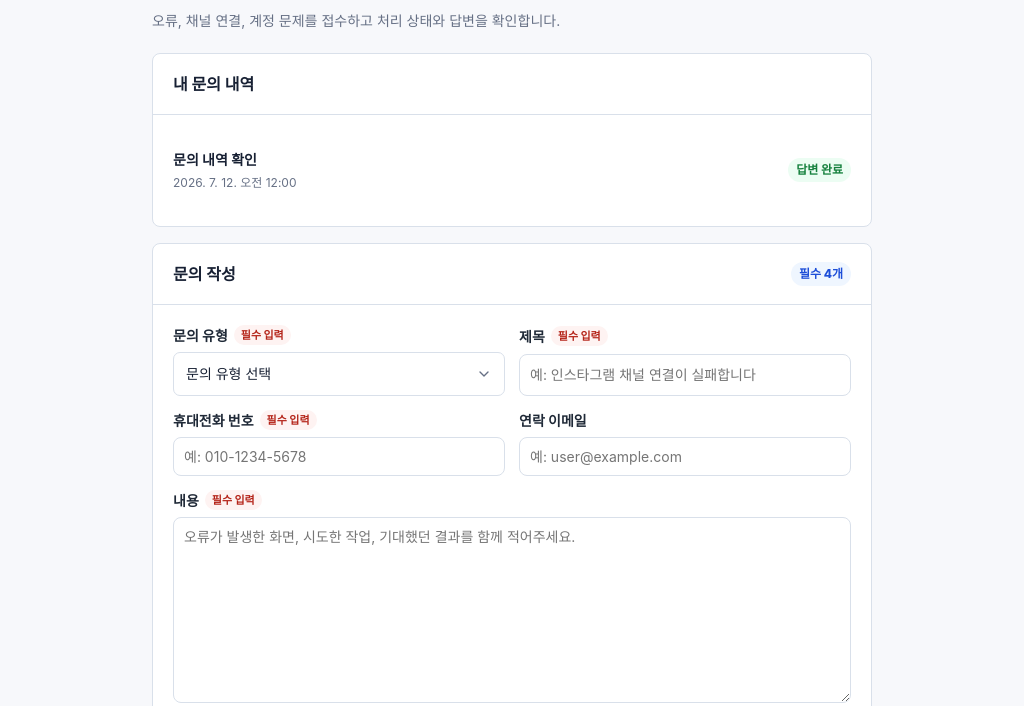
Scenario: SupportPage › submits a support request and shows received state
Select "오류" in the dropdown labelled "문의 유형 필수 입력" at (339, 374), box [173, 352, 505, 396]
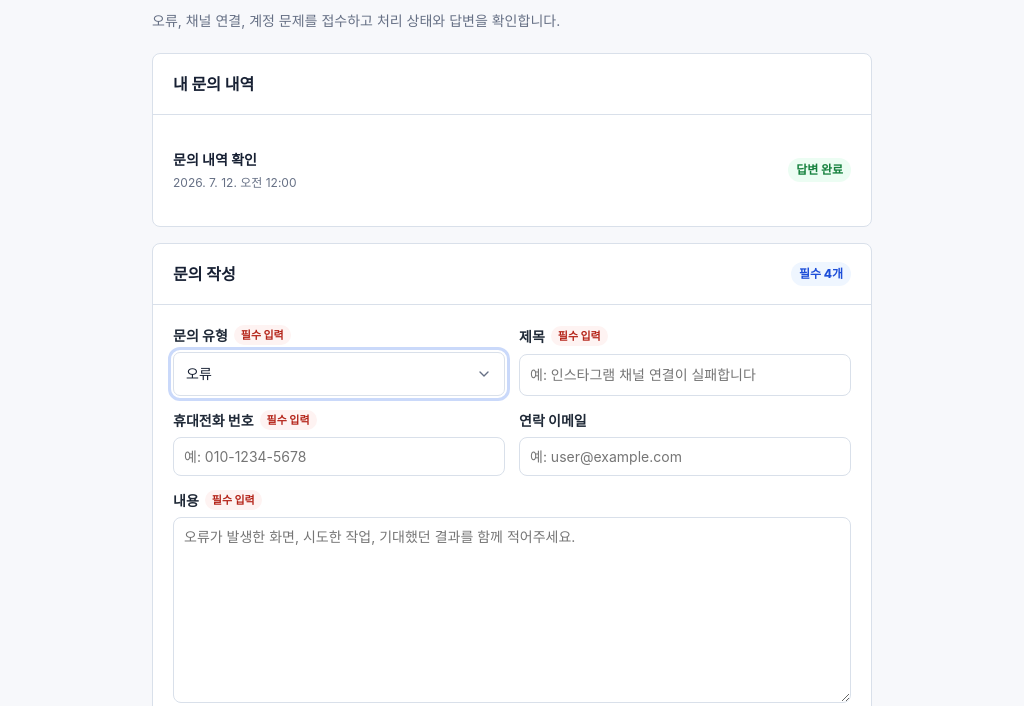
Type "채널 연결 오류" into the field labelled "제목 필수 입력" at (685, 375), box [519, 354, 851, 396]
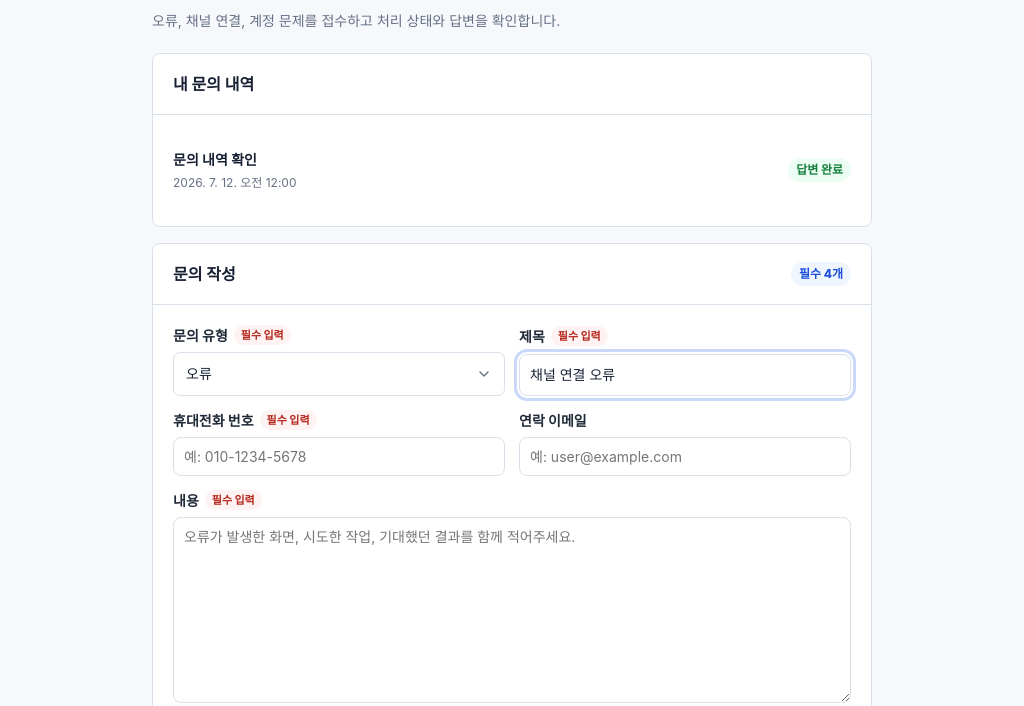
Type "01012345678" into the field labelled "휴대전화 번호 필수 입력" at (339, 456), box [173, 437, 505, 476]
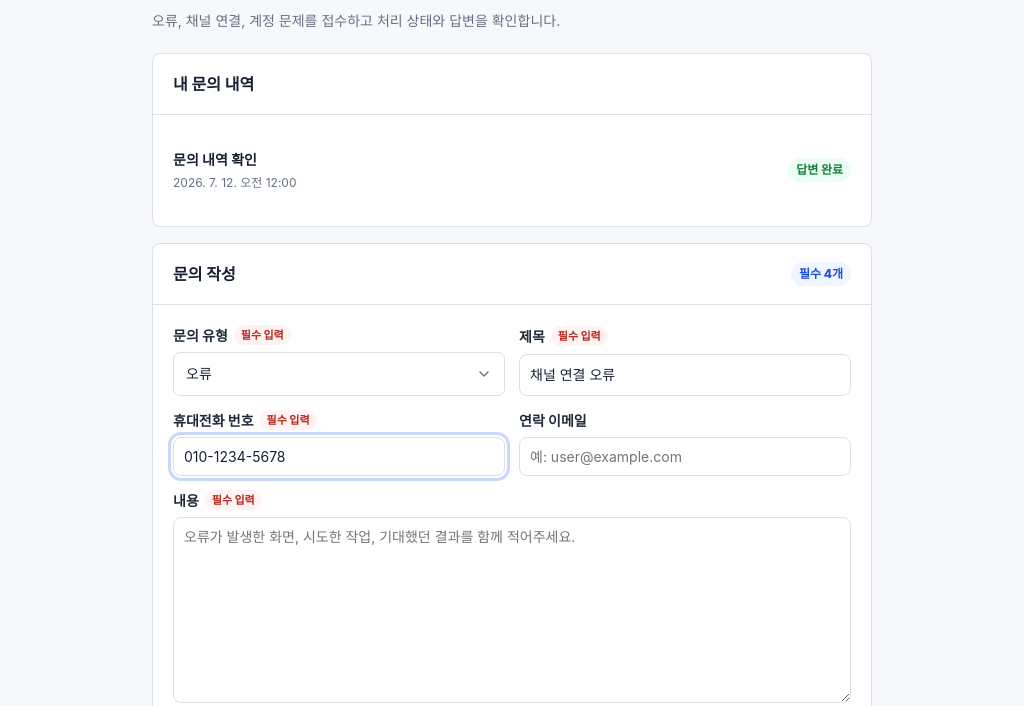
Type "인스타 연결이 실패합니다." into the text box labelled "내용 필수 입력" at (512, 610), box [173, 517, 851, 703]
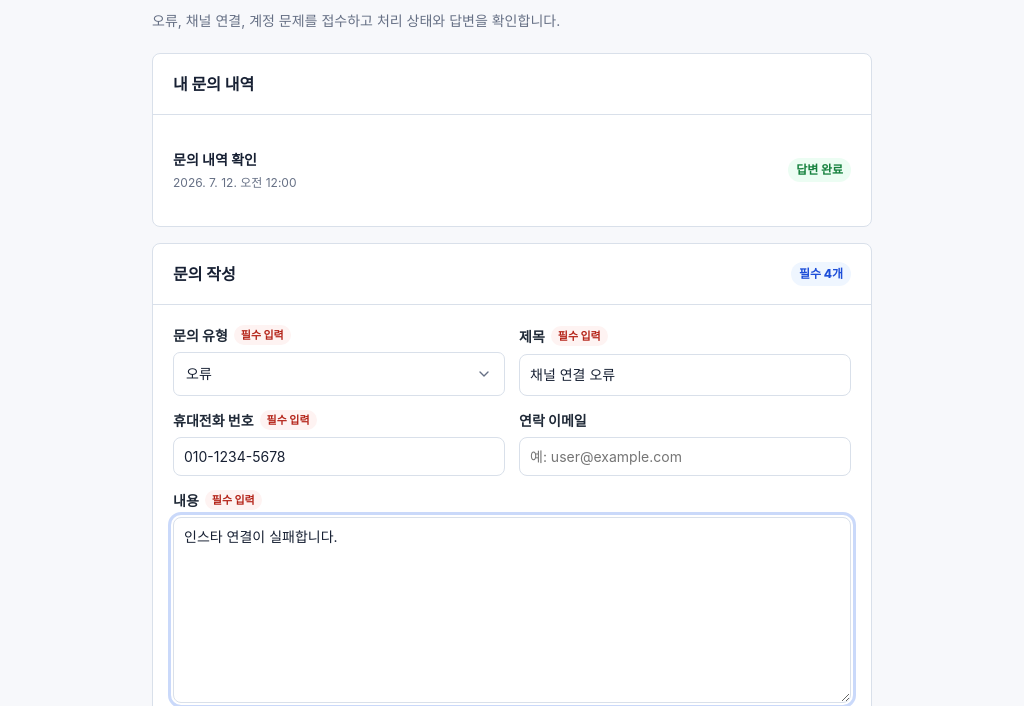
Type "user@example.com" into the field labelled "연락 이메일" at (685, 456), box [519, 437, 851, 476]
(page scrolled)
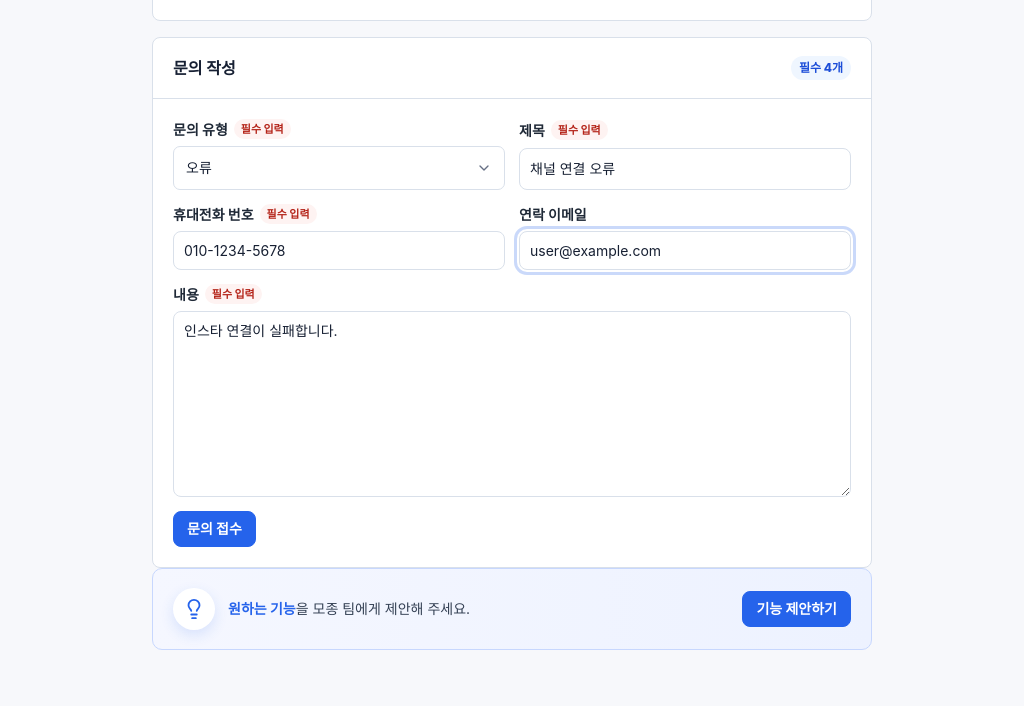
Click the button "문의 접수" at (214, 529), box [173, 511, 256, 547]
(page scrolled)
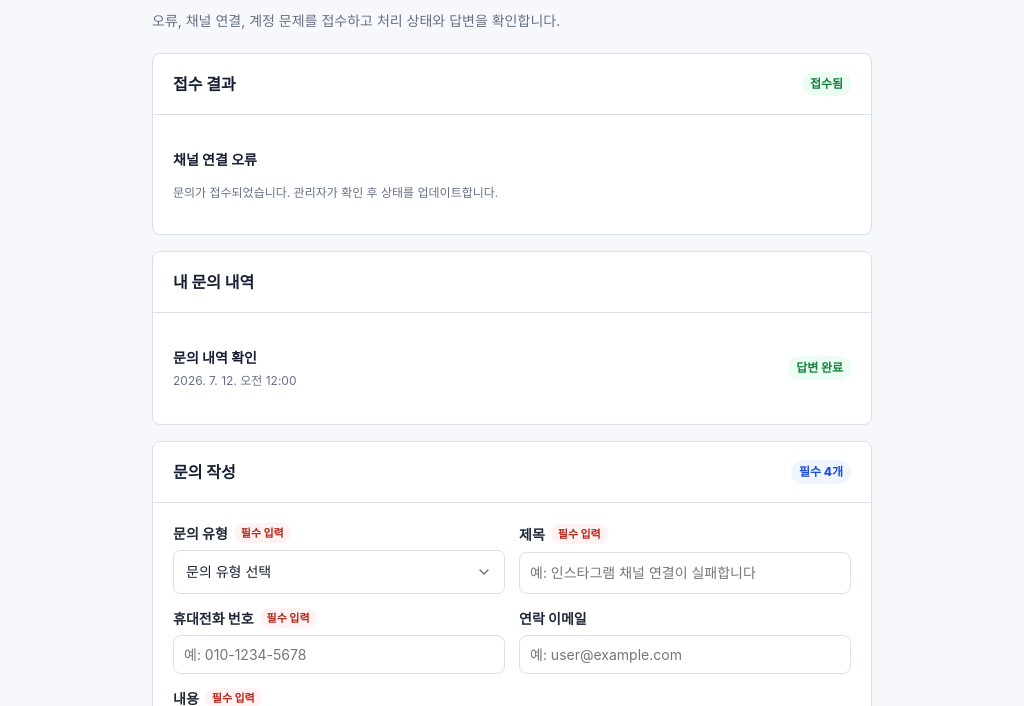
Now the text "접수됨" is shown, box [802, 72, 851, 96]
